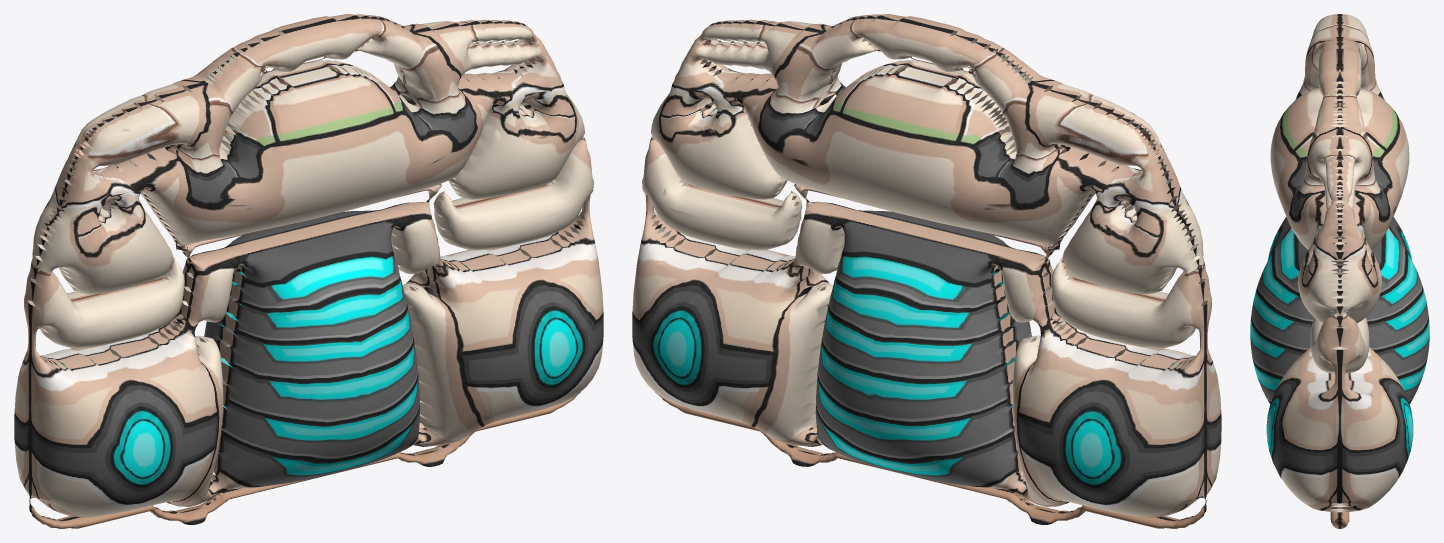
File: command_dais.glb
3 views of the same model, side by side, from view 1: azimuth 30°, elevation 25°; view 2: azimuth 150°, elevation 25°; view 3: azimuth 270°, elevation 25° (orthographic). The views are drawn at different scales.
Visible parts, largest first — view 1: command_dais; view 2: command_dais; view 3: command_dais.
Boxes of the visible parts, left/top/right/bottom form: command_dais: left=14, top=14, right=603, bottom=528; command_dais: left=632, top=14, right=1221, bottom=528; command_dais: left=1250, top=14, right=1429, bottom=528.
Size of the model in its own units: 0.9911 by 0.7852 by 0.3313.
1 material, 1 textured.
